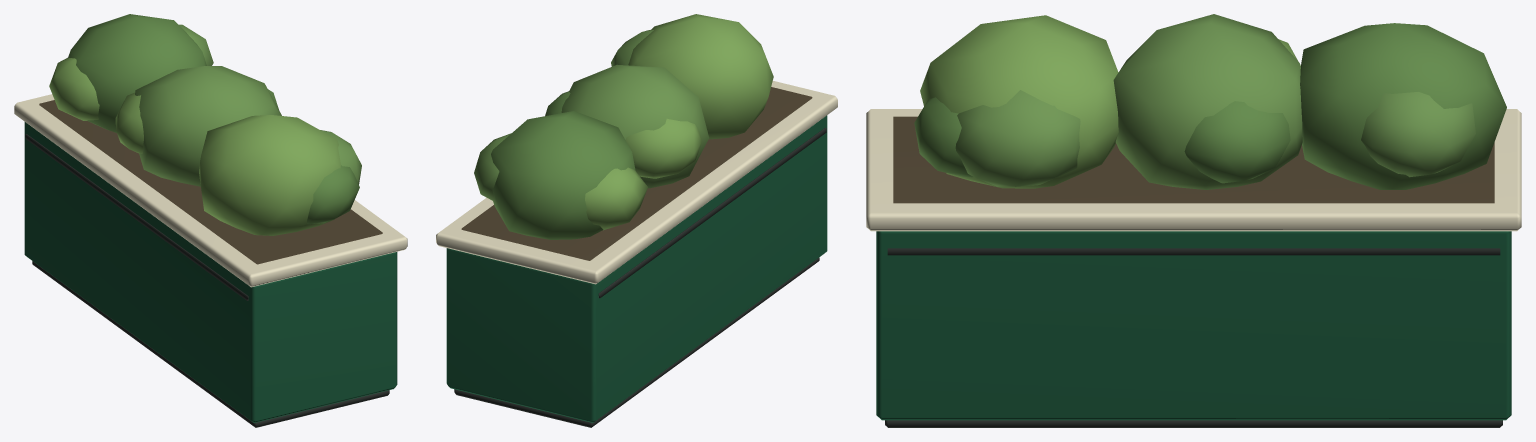
The model's file is deck_planter.glb.
3 views of the same model, side by side, from view 1: azimuth 30°, elevation 25°; view 2: azimuth 150°, elevation 25°; view 3: azimuth 270°, elevation 25° (orthographic). The views are drawn at different scales.
Visible parts, largest first — view 1: Box, Shrub2Core, Cap, Shrub1Core, Shrub0Core, Soil, Shrub0Side1, Shrub2Side0, Foot, Groove-1, Shrub1Side0, Shrub2Side1 (+1 smaller); view 2: Box, Shrub0Core, Cap, Shrub2Core, Shrub1Core, Soil, Shrub1Side0, Shrub0Side1, Foot, Groove-1, Shrub0Side0, Shrub2Side1; view 3: Box, Cap, Shrub1Core, Shrub0Core, Soil, Shrub2Core, Shrub2Side1, Shrub0Side0, Shrub1Side1, Foot, Groove1, Shrub2Side0.
Part boxes in pixels (x1,y1,x2,y2): Box: (24, 122, 397, 422); Shrub2Core: (199, 115, 340, 235); Cap: (14, 94, 407, 287); Shrub1Core: (135, 66, 281, 186); Shrub0Core: (68, 14, 206, 132); Soil: (39, 100, 382, 264); Shrub0Side1: (49, 57, 99, 120); Shrub2Side0: (307, 165, 359, 224); Foot: (32, 261, 389, 427); Groove-1: (25, 134, 248, 300); Shrub1Side0: (115, 92, 143, 153); Shrub2Side1: (320, 130, 361, 184); Box: (446, 115, 827, 422); Shrub0Core: (491, 111, 635, 239); Cap: (436, 81, 837, 284); Shrub2Core: (628, 14, 773, 139); Shrub1Core: (561, 64, 709, 188); Soil: (461, 87, 812, 260); Shrub1Side0: (625, 118, 702, 178); Shrub0Side1: (585, 167, 647, 230); Foot: (454, 257, 819, 427); Groove-1: (598, 127, 826, 298); Shrub0Side0: (474, 133, 511, 200); Shrub2Side1: (611, 30, 653, 66); Box: (876, 231, 1511, 420); Cap: (866, 109, 1521, 231); Shrub1Core: (1113, 14, 1302, 189); Shrub0Core: (1300, 23, 1506, 189); Soil: (893, 116, 1494, 203); Shrub2Core: (920, 15, 1118, 188); Shrub2Side1: (955, 90, 1080, 186); Shrub0Side0: (1361, 92, 1475, 177); Shrub1Side1: (1184, 101, 1290, 183); Foot: (885, 420, 1502, 427); Groove1: (887, 248, 1500, 255); Shrub2Side0: (914, 97, 973, 177).
Bounding box in the file's own units: 0.4559 × 0.7023 × 1.16.
